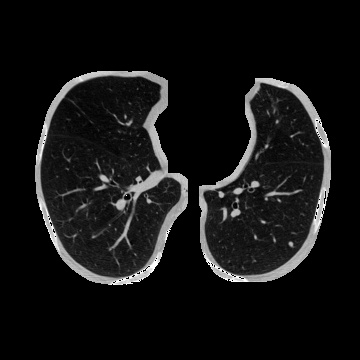PN: (287, 241, 293, 247)
